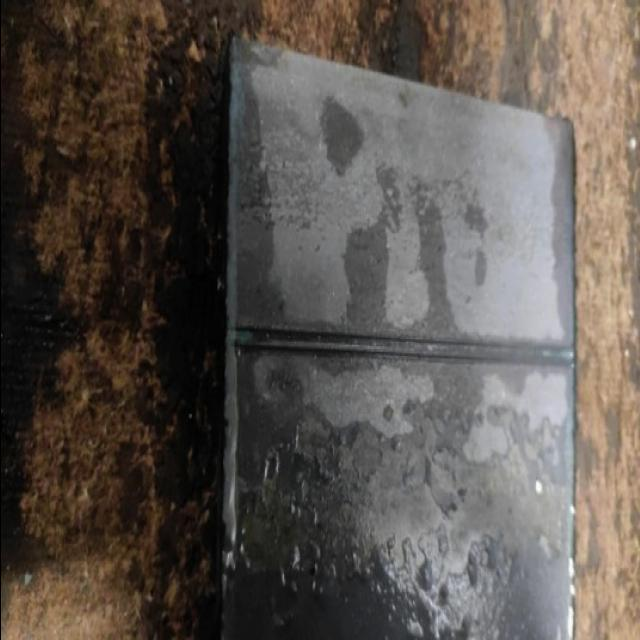defect: (234, 326, 574, 366)
